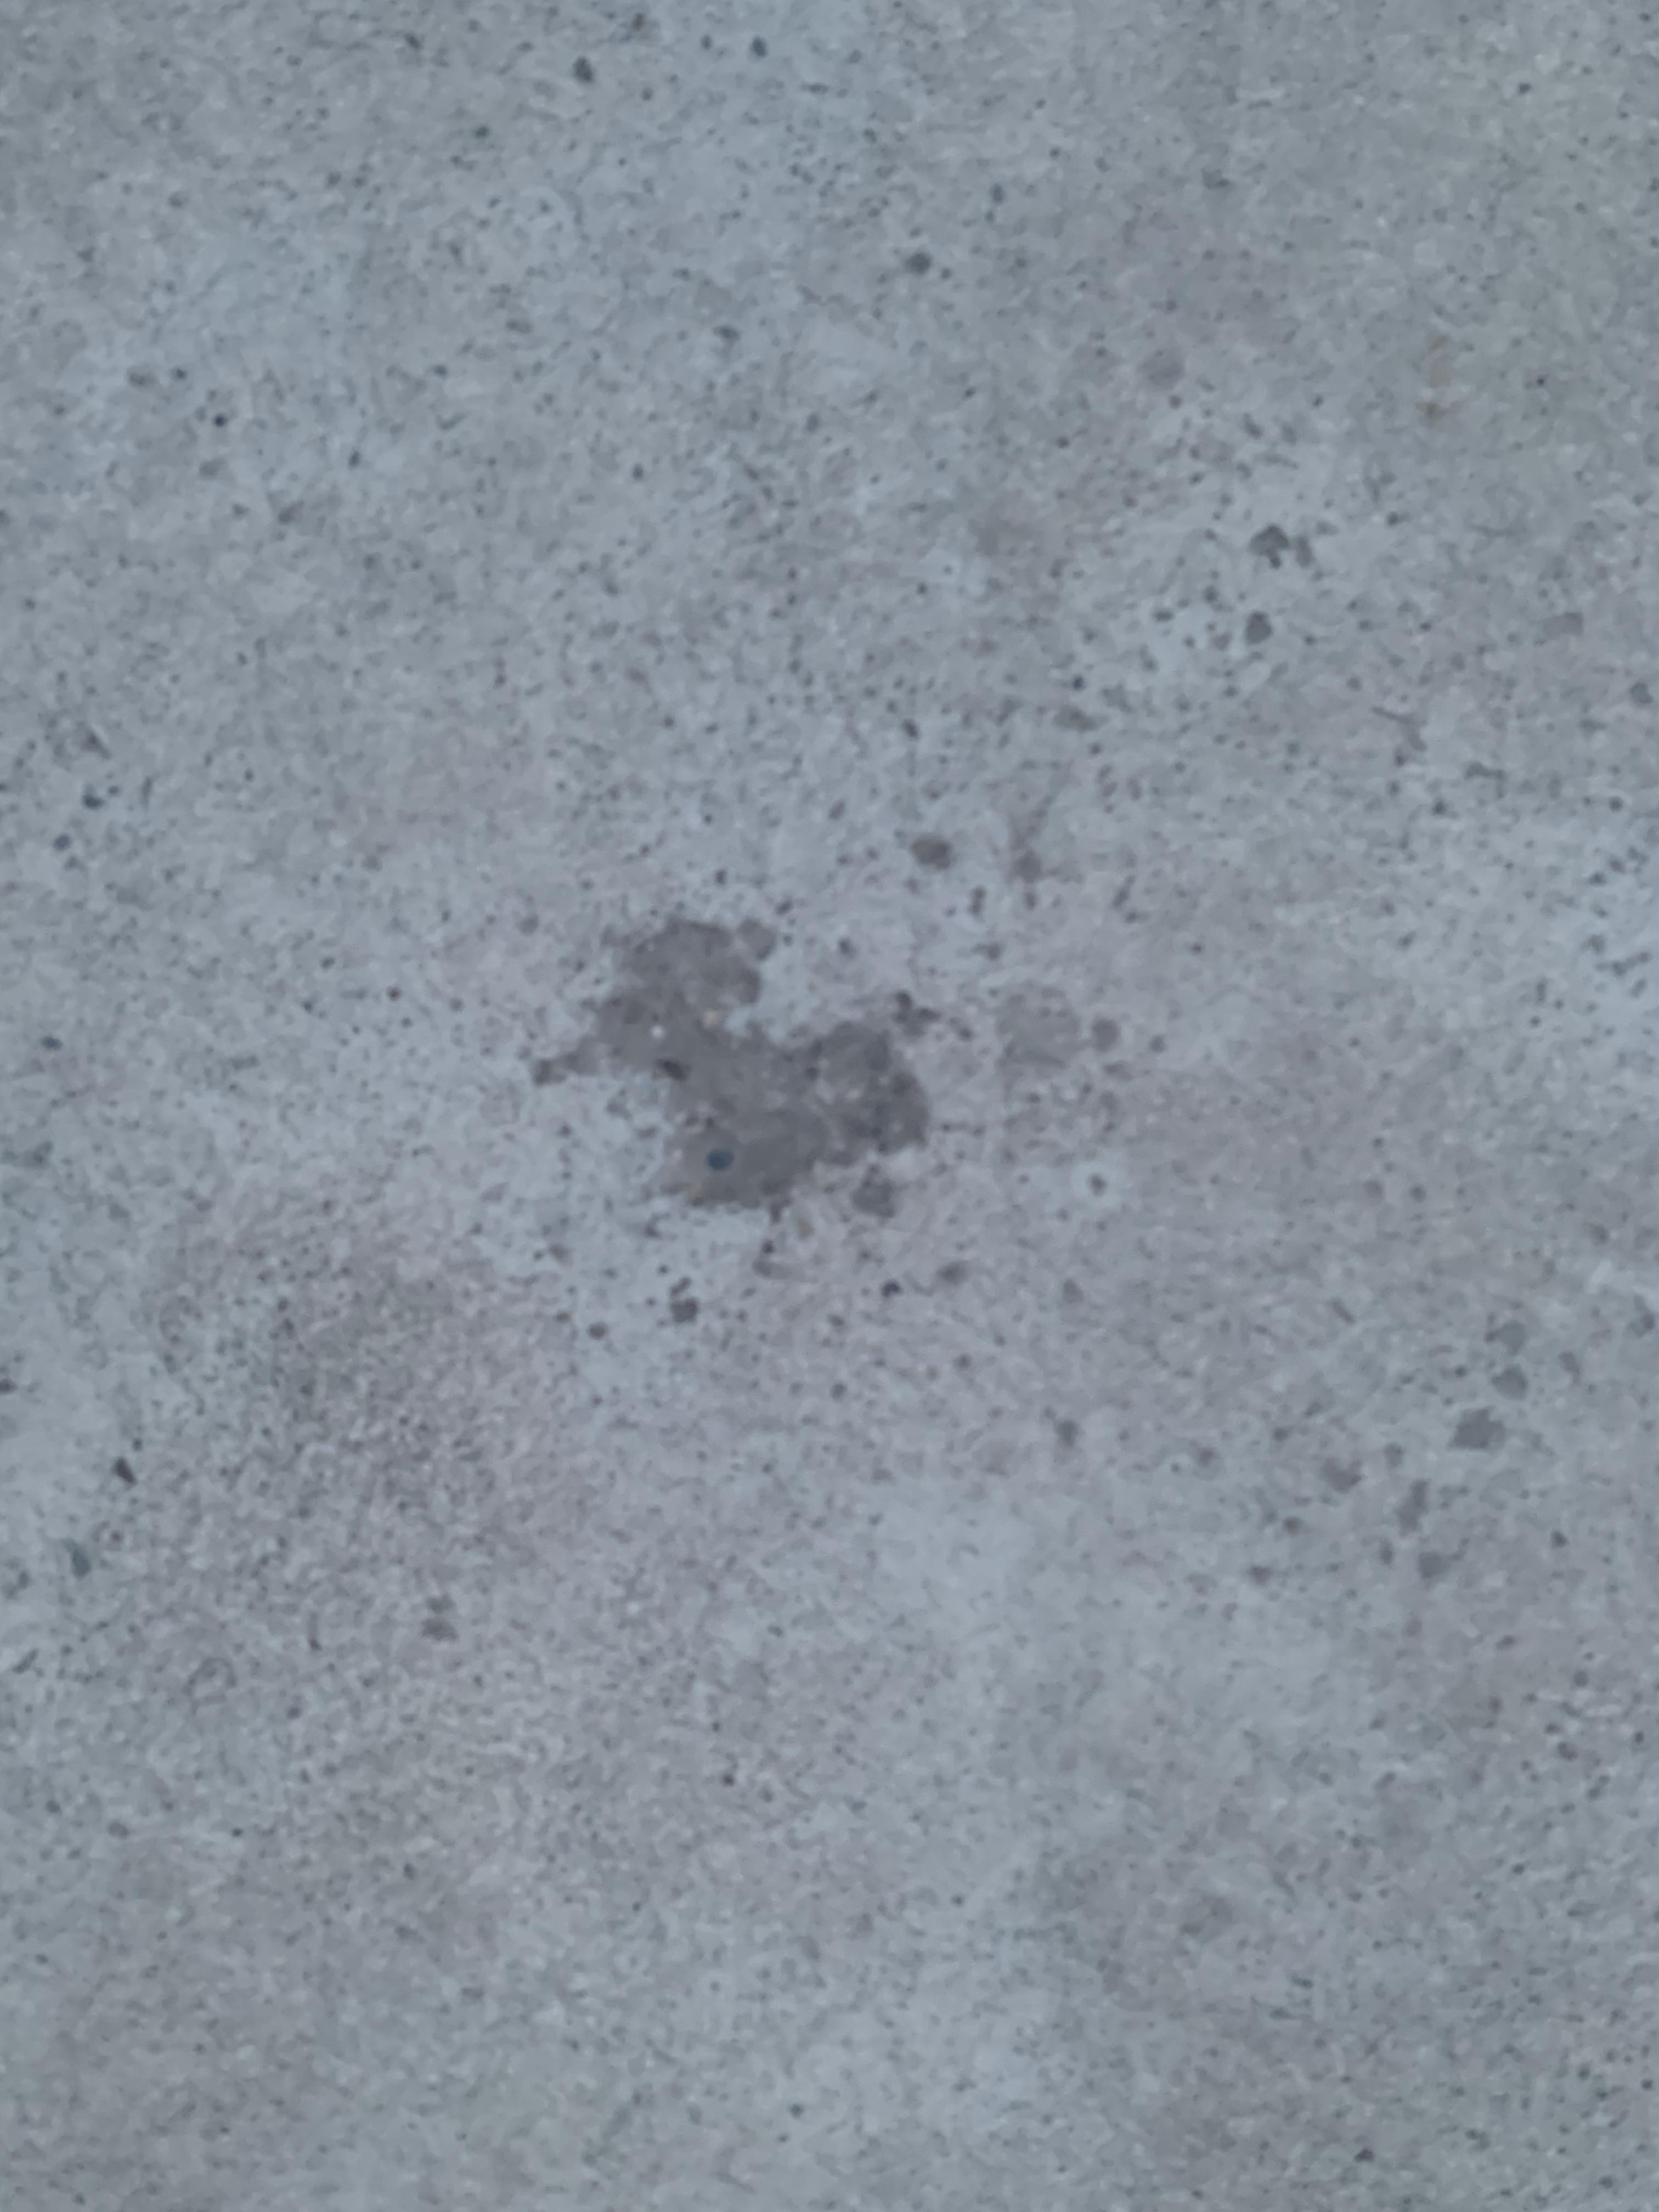grey spot: (537, 916, 941, 1226)
